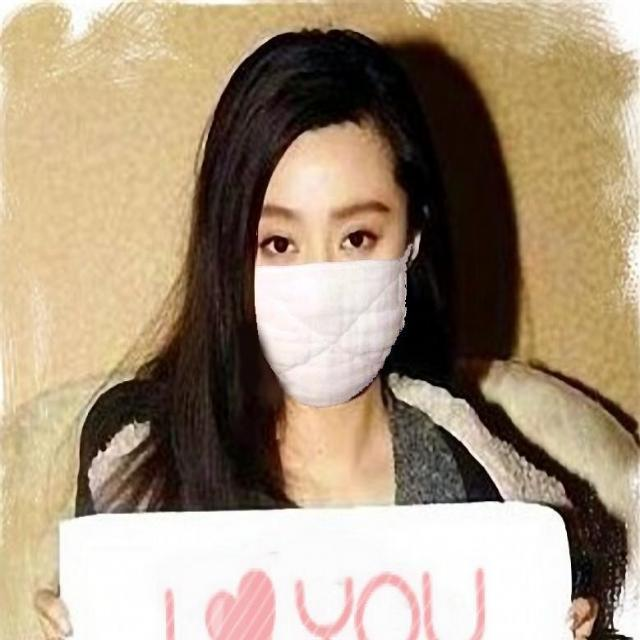mask: (253, 147, 408, 408)
